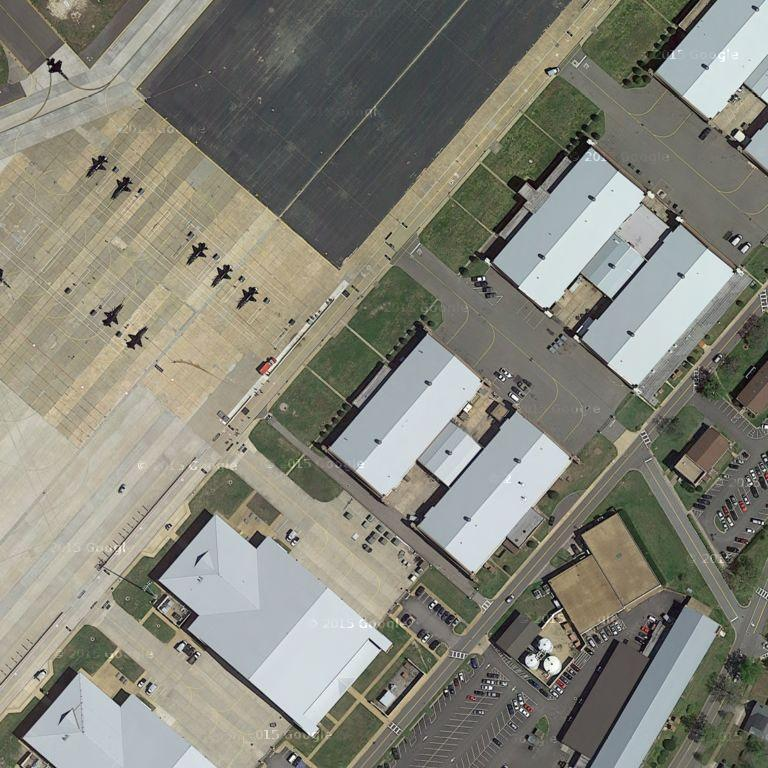plane: (82, 151, 112, 183), (120, 323, 150, 354), (108, 172, 137, 204), (233, 282, 262, 313), (96, 300, 124, 332), (42, 54, 70, 82), (183, 238, 209, 268), (209, 261, 234, 290)
